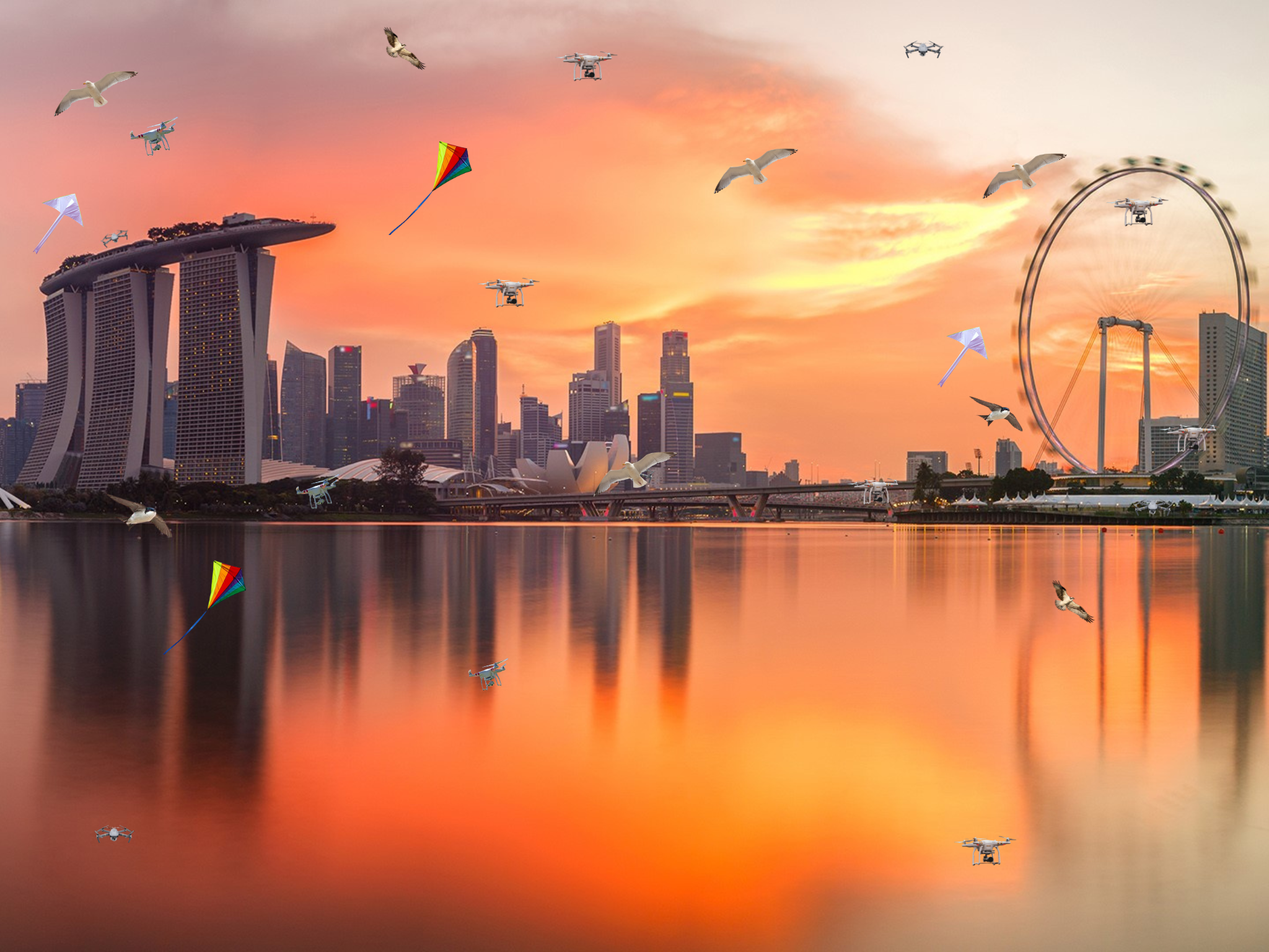drone_other: (128, 114, 181, 158), (479, 274, 540, 309), (956, 834, 1018, 867), (557, 49, 618, 82), (1112, 195, 1169, 229), (1160, 422, 1220, 453), (295, 473, 341, 510), (466, 657, 511, 692), (846, 478, 901, 505), (93, 822, 136, 845), (903, 38, 943, 60), (101, 228, 129, 248)
